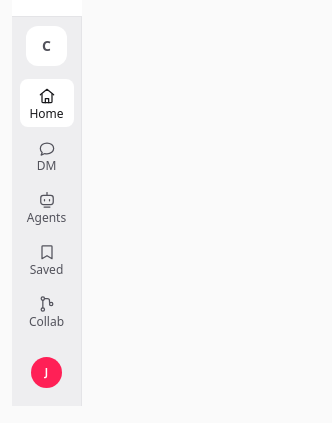
계정 메뉴 머리가 이름과 핸들을 가른다 › 굵은 줄은 이름, 아래 줄은 핸들이다
The width and height of the screenshot is (332, 423).
Click the button named "내 계정 메뉴" at (46, 373), box x1=16 y1=348 x2=76 y2=397
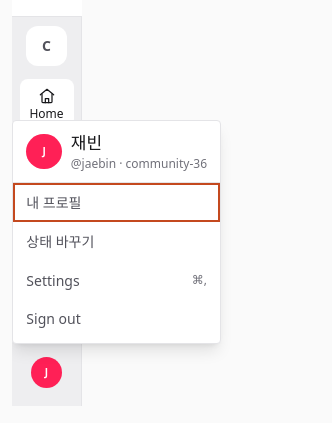
Expected: the text "재빈" is shown, x1=71 y1=131 x2=102 y2=154
Expected: the text "@jaebin · community-36" is shown, x1=71 y1=155 x2=207 y2=173
